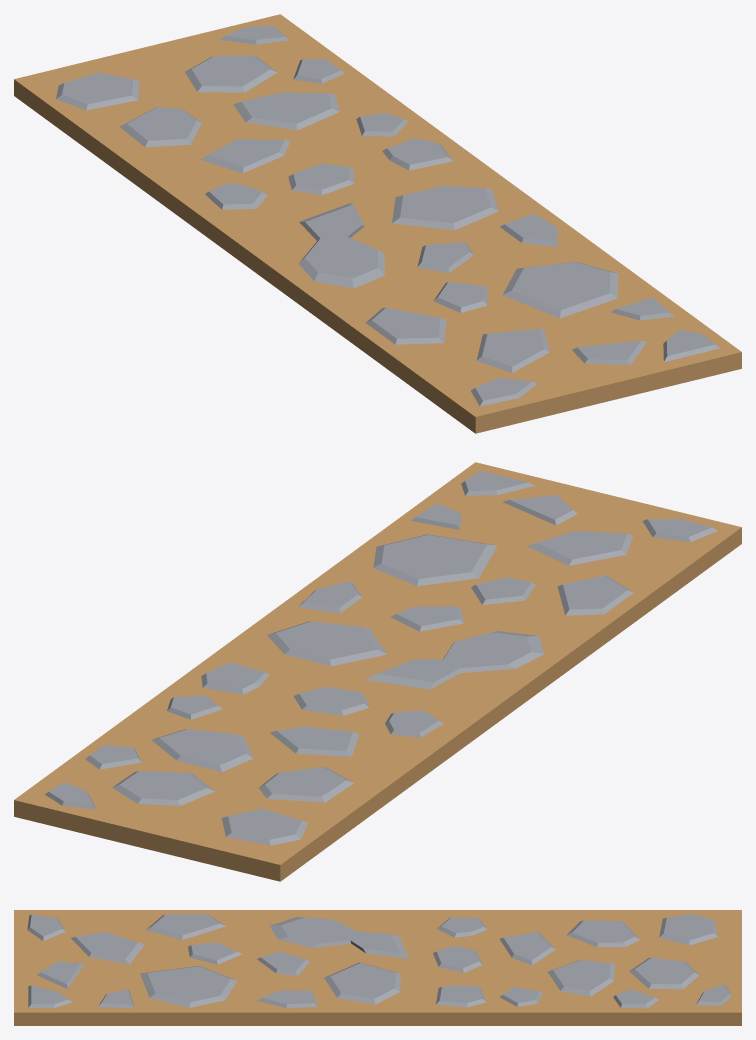
Rendered from Road.fbx.
3 renders of one model, top to bottom at view 1: azimuth 30°, elevation 25°; view 2: azimuth 150°, elevation 25°; view 3: azimuth 270°, elevation 25°, orthographic. The views are drawn at different scales.
Visible parts, largest first — view 1: Road; view 2: Road; view 3: Road.
Part boxes in pixels (bbox=[...]): Road: bbox=[14, 14, 741, 433]; Road: bbox=[14, 462, 741, 881]; Road: bbox=[14, 910, 741, 1025].
Bounding box in the file's own units: 413 × 29.83 × 1240.
